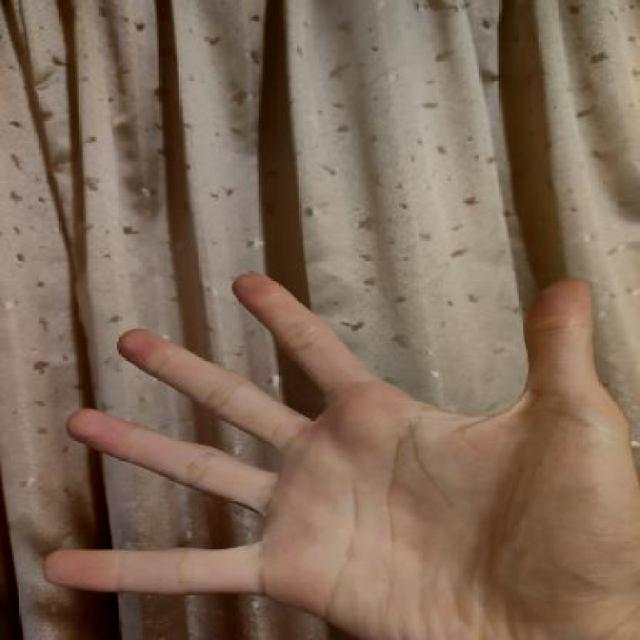no_glove: (34, 257, 637, 640)
